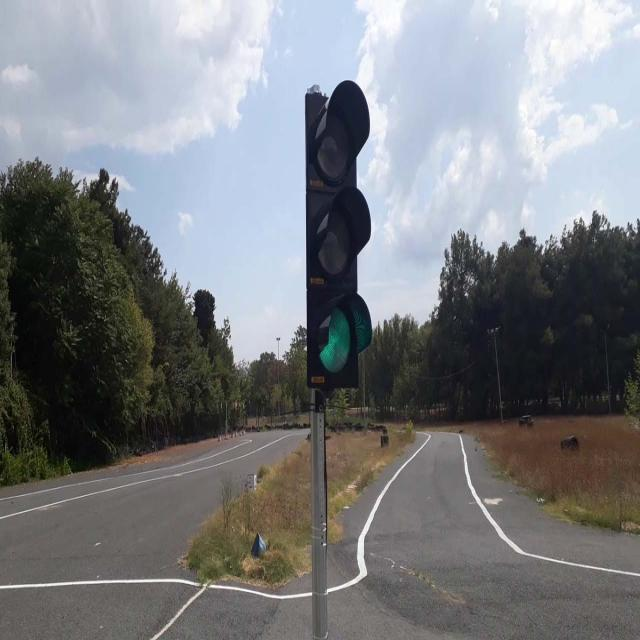yesil: (304, 85, 370, 386)
